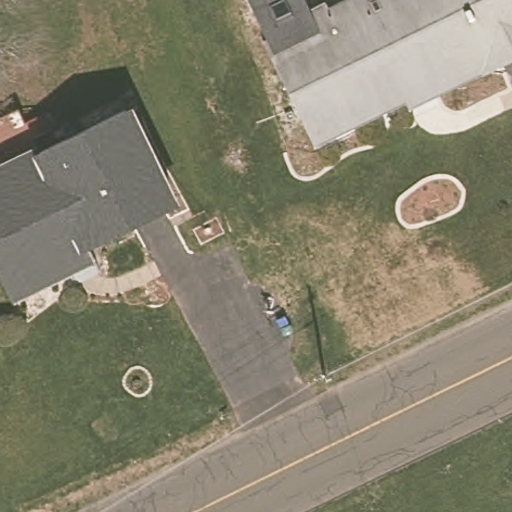DT: (314, 371, 333, 385)
